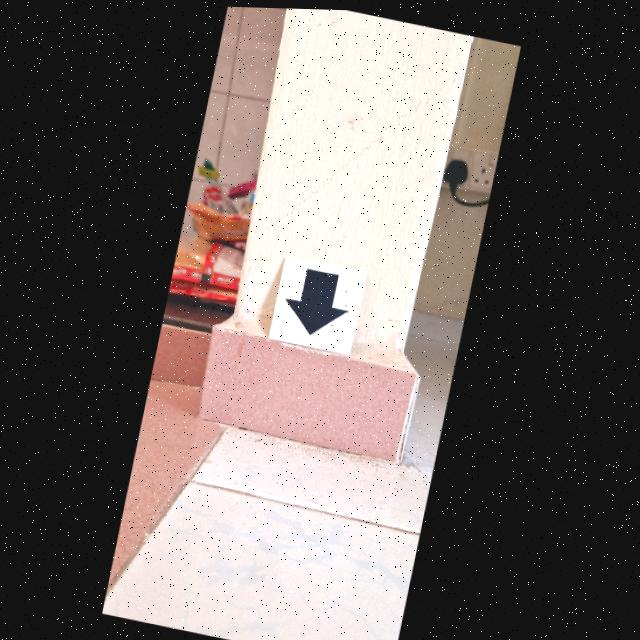DOWN: (287, 267, 348, 332)
